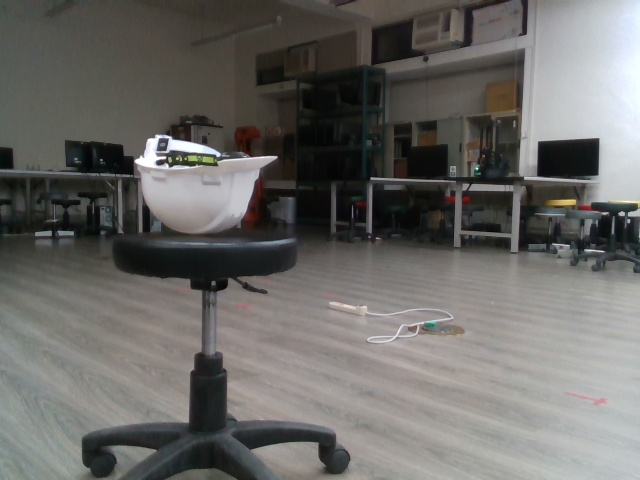helmet: (132, 129, 280, 236)
